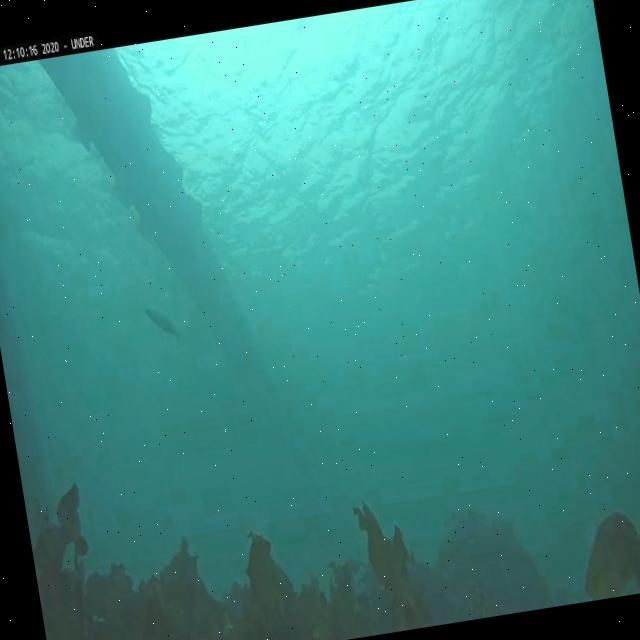fish: (143, 300, 182, 348)
